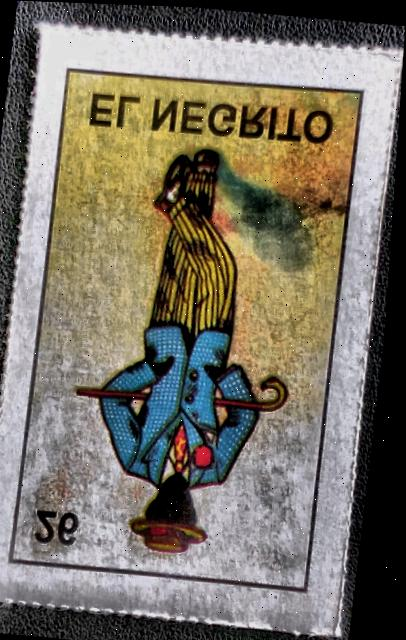El Negrito: (0, 30, 389, 615)
